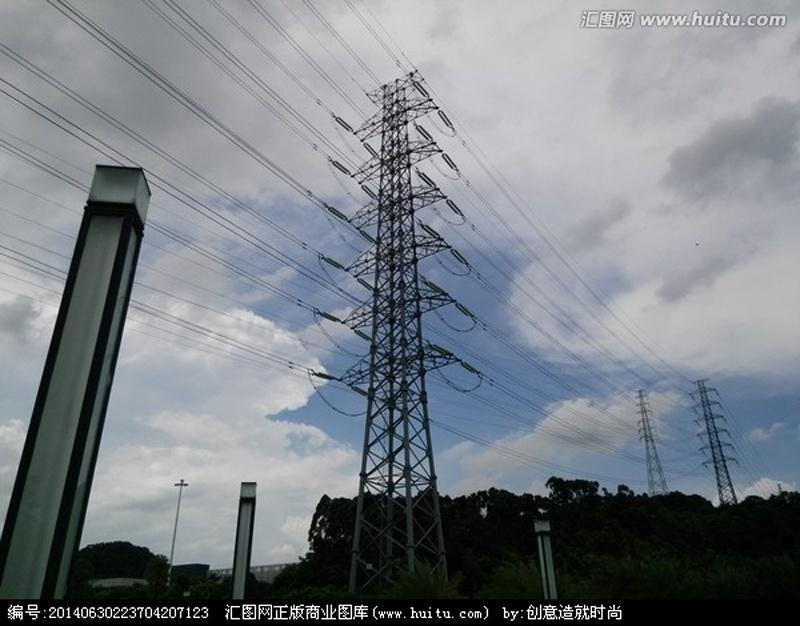power_tower: (308, 67, 484, 599), (692, 376, 742, 506), (632, 384, 672, 496)
